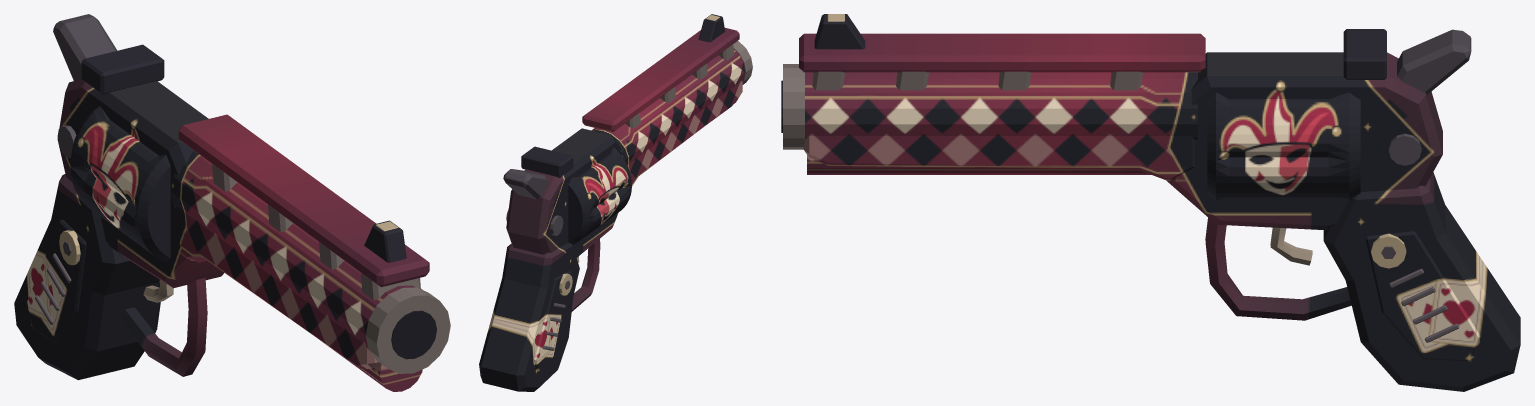
The model's file is Magnum_Joker.glb.
3 views of the same model, side by side, from view 1: azimuth 30°, elevation 25°; view 2: azimuth 150°, elevation 25°; view 3: azimuth 270°, elevation 25° (orthographic). The views are drawn at different scales.
Visible parts, largest first — view 1: Main, Cylinder, Hammer; view 2: Main, Cylinder, Hammer; view 3: Main, Cylinder, Hammer.
Boxes of the visible parts, box(x1,y1,x2,y2) form: Main: box(14, 44, 450, 391); Cylinder: box(70, 106, 170, 262); Hammer: box(53, 14, 117, 80); Main: box(479, 14, 752, 391); Cylinder: box(568, 147, 631, 244); Hammer: box(503, 169, 547, 199); Main: box(781, 14, 1520, 391); Cylinder: box(1207, 93, 1360, 200); Hammer: box(1397, 29, 1471, 94).
Size of the model in its own units: 0.45 by 1.28 by 2.38.
Materials: 1 (1 with a texture image).
